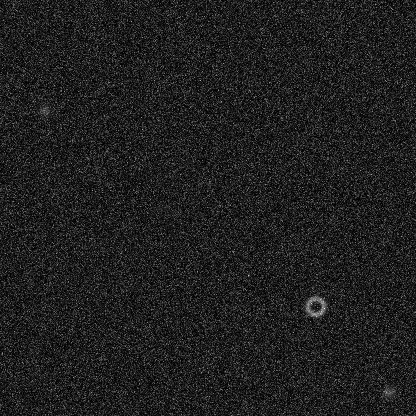Ring: (303, 294, 327, 318)
Spot: (380, 384, 396, 400), (36, 102, 52, 118)
